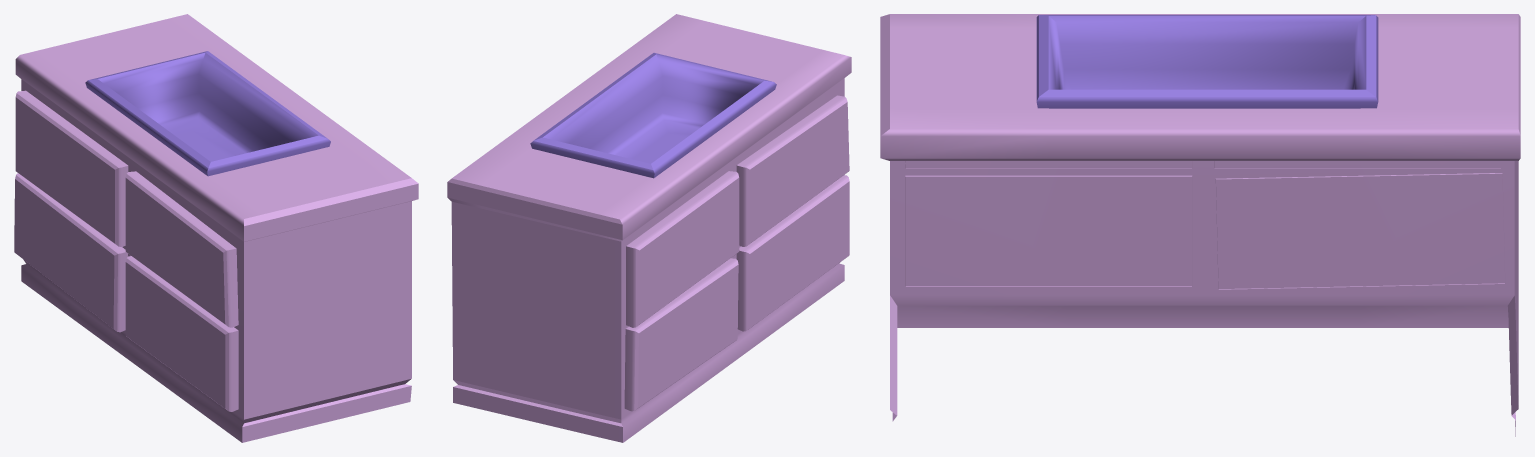
Rendered from Friday_House_KitchenSink.fbx.
3 views of the same model, side by side, from view 1: azimuth 30°, elevation 25°; view 2: azimuth 150°, elevation 25°; view 3: azimuth 270°, elevation 25° (orthographic). The views are drawn at different scales.
Visible parts, largest first — view 1: Kitchenette_Sink; view 2: Kitchenette_Sink; view 3: Kitchenette_Sink.
Part boxes in pixels (<box>): Kitchenette_Sink: <box>14,14,418,442</box>; Kitchenette_Sink: <box>447,14,851,442</box>; Kitchenette_Sink: <box>880,14,1520,436</box>.
Size of the model in its own units: 68.13 by 83.31 by 147.
